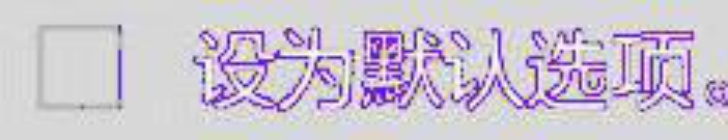CheckBox: (1, 1, 727, 139)
